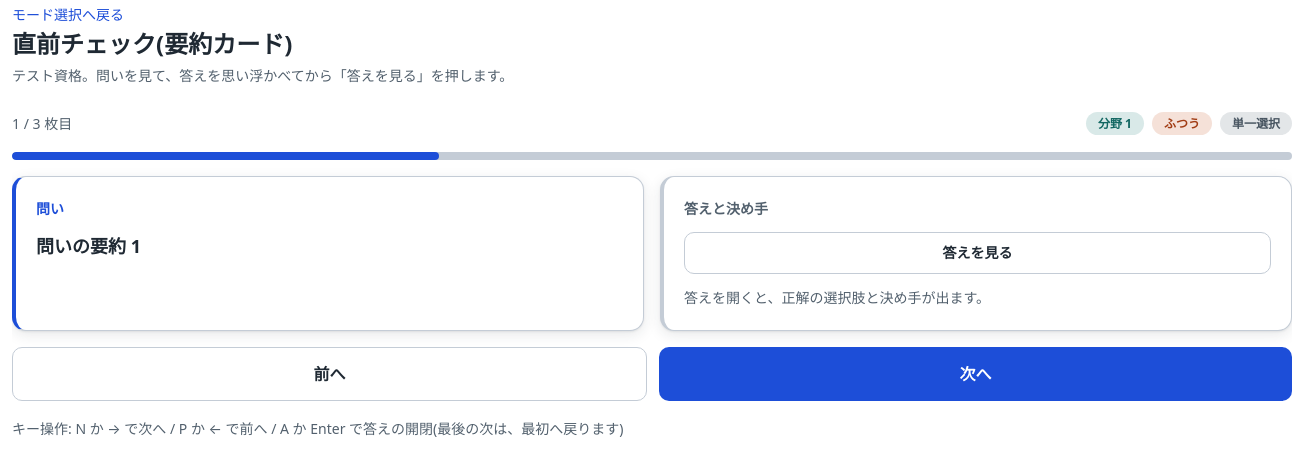
it: SummaryCards › 巡回する_最初の前は最後_最後の次は最初(ボタンの名前も変わる)
Step 1. Click the button "前へ" → (330, 374), box [12,347,647,401]
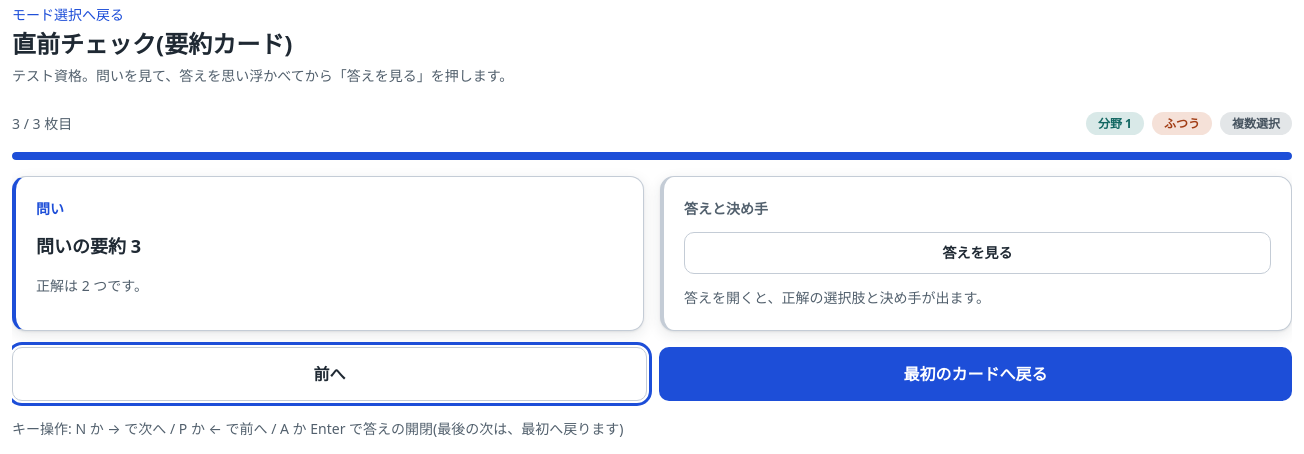
Result: the text "3 / 3 枚目" is shown at [12,112,72,136]
Step 2. Click the button "最初のカードへ戻る" → (976, 374), box [659,347,1292,401]
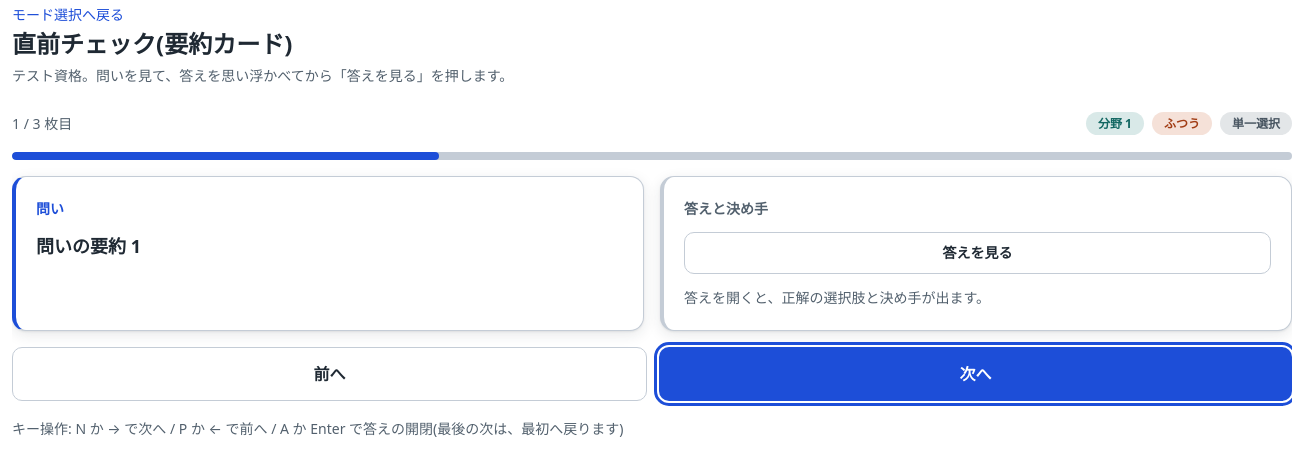
Result: the text "1 / 3 枚目" is shown at [12,112,72,136]
